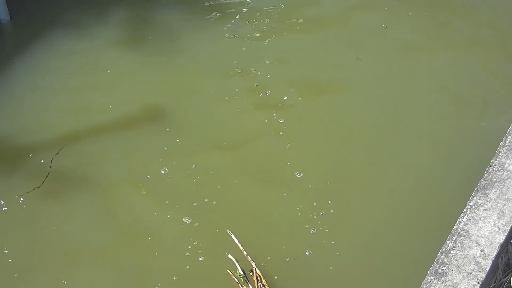twig: (207, 217, 275, 288), (6, 144, 77, 191)
